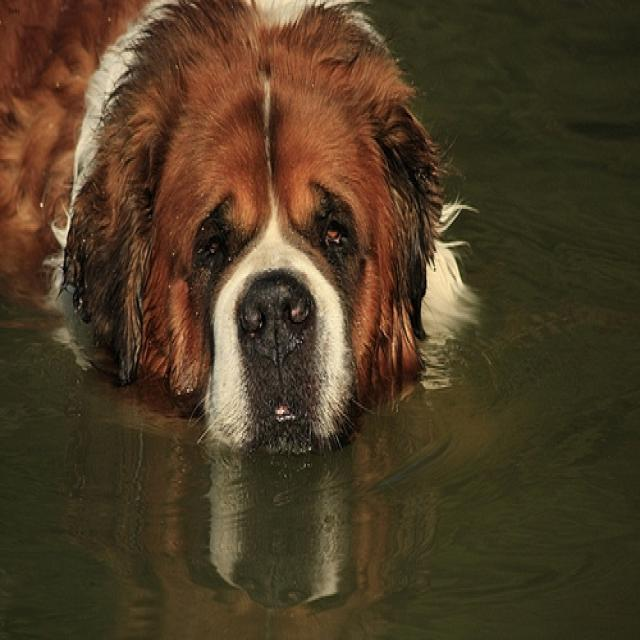dog-saint_bernard: (1, 2, 484, 468)
